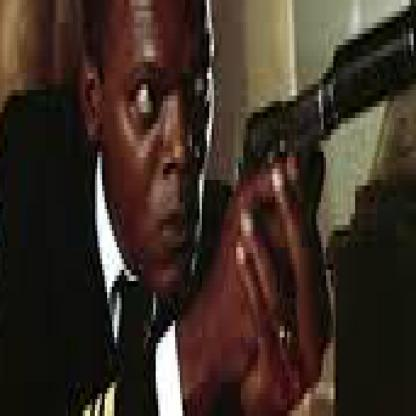gun: (160, 0, 414, 411)
